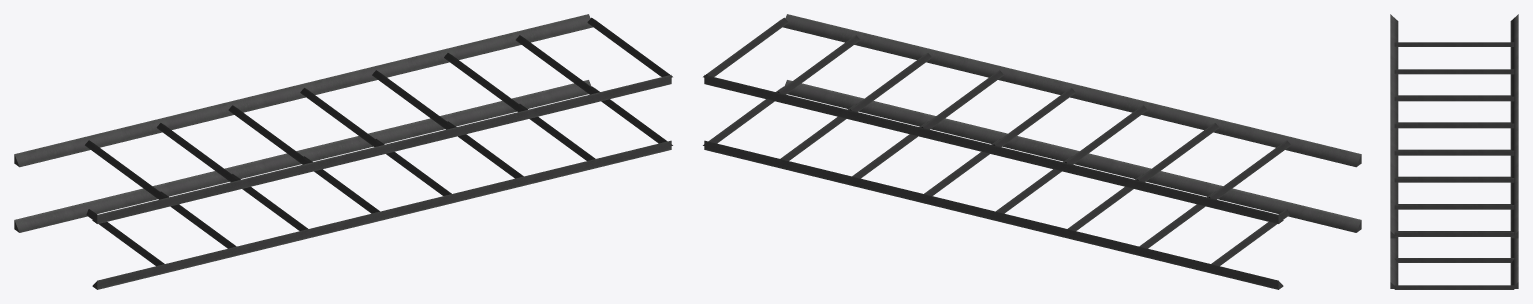
The model's file is p6_wire_trellis_128_lod1.glb.
The picture shows the model from 3 angles, left to right: view 1: azimuth 30°, elevation 25°; view 2: azimuth 150°, elevation 25°; view 3: azimuth 270°, elevation 25°; orthographic projection. The views are drawn at different scales.
Visible parts, largest first — view 1: surf0; view 2: surf0; view 3: surf0.
Part boxes in pixels (left/top/right/bottom): surf0: left=14, top=14, right=672, bottom=289; surf0: left=703, top=14, right=1361, bottom=289; surf0: left=1390, top=14, right=1518, bottom=289.
Size of the model in its own units: 129 by 16 by 32.
